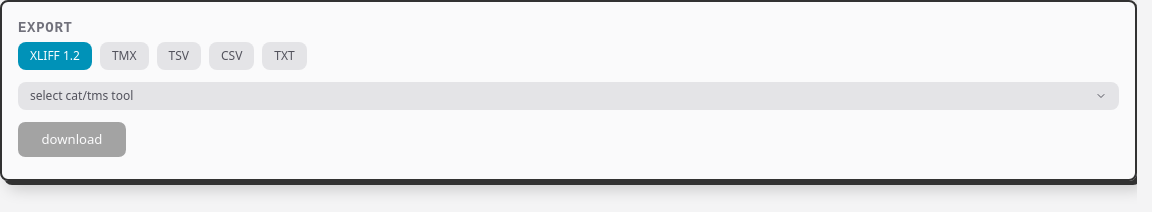
it: BasilExportManager › needs no variant for single-variant formats
The width and height of the screenshot is (1152, 212).
Click the button "TSV": x=179, y=56 [156, 42, 201, 70]
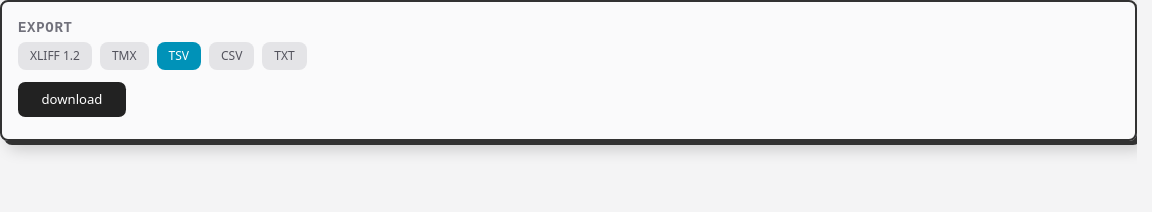
Expected: the button "download" is enabled, [18, 82, 126, 117]
